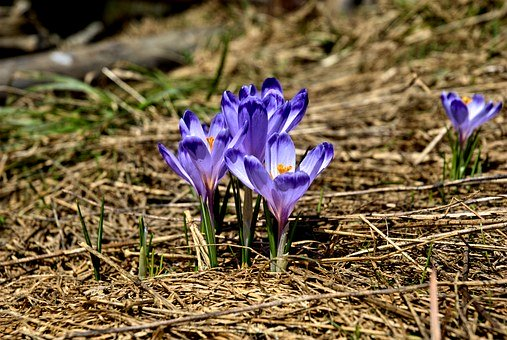flower: (177, 77, 327, 269)
ground: (11, 86, 505, 336)
